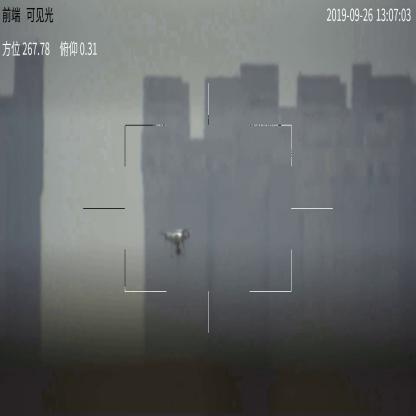uav: (157, 227, 197, 259)
